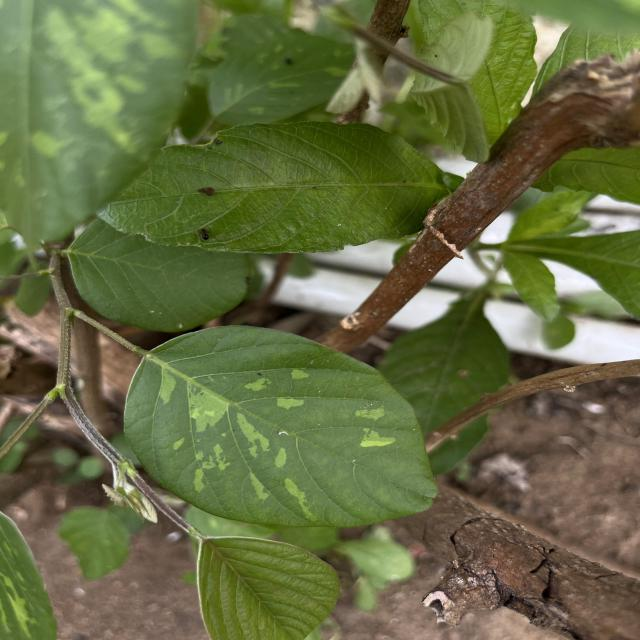Desmodium gangeticum: (121, 321, 444, 532)
